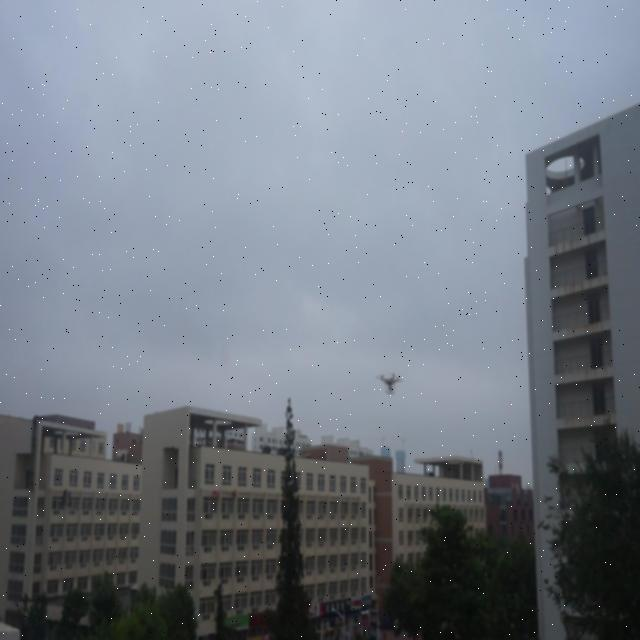UAV: (375, 373, 404, 394)
